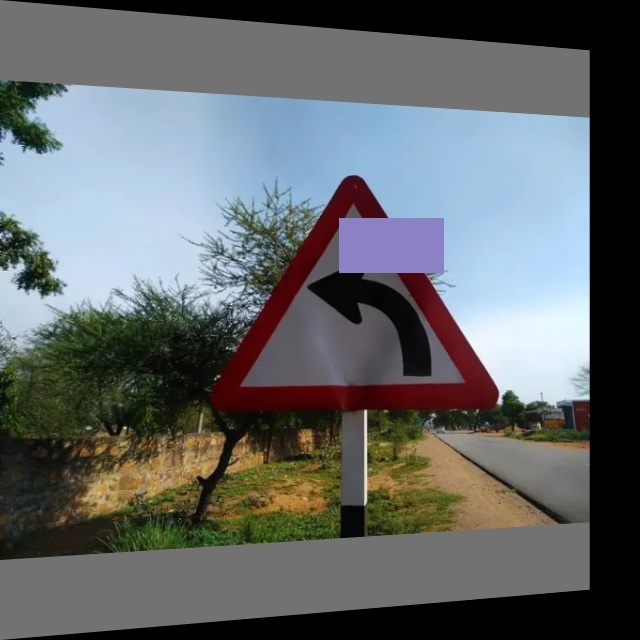Left_Hand_Curve: (231, 171, 497, 416)
